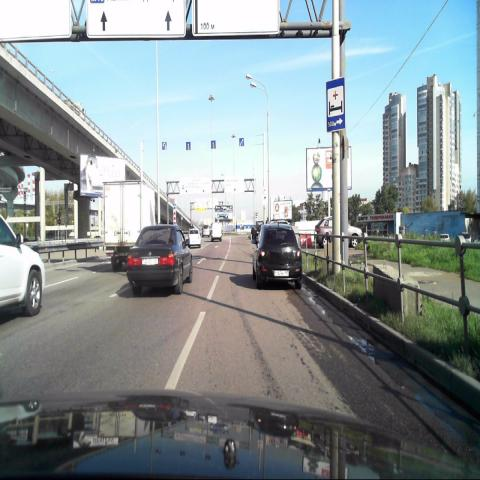7_2: (327, 80, 345, 130)
